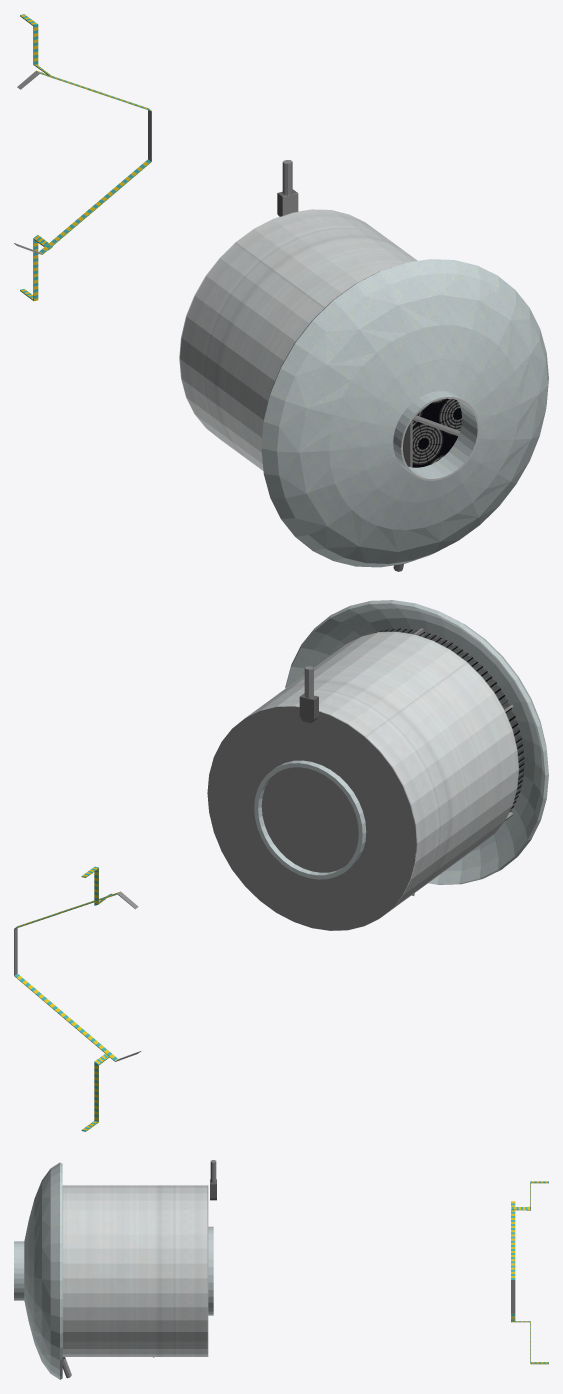
The model's file is dkq-11m604096-geode.glb.
3 views of the same model, one above another, from view 1: azimuth 30°, elevation 25°; view 2: azimuth 150°, elevation 25°; view 3: azimuth 270°, elevation 25° (orthographic). The views are drawn at different scales.
Parts seen in each view (by area): view 1: Node; view 2: Node; view 3: Node.
Part boxes in pixels (x1=…): Node: x1=14, y1=14, x2=548, y2=571; Node: x1=14, y1=600, x2=548, y2=1131; Node: x1=14, y1=1160, x2=548, y2=1379.
Bounding box in the file's own units: 2.44 × 2.66 × 5.97.
Materials: 9 (9 with a texture image).
